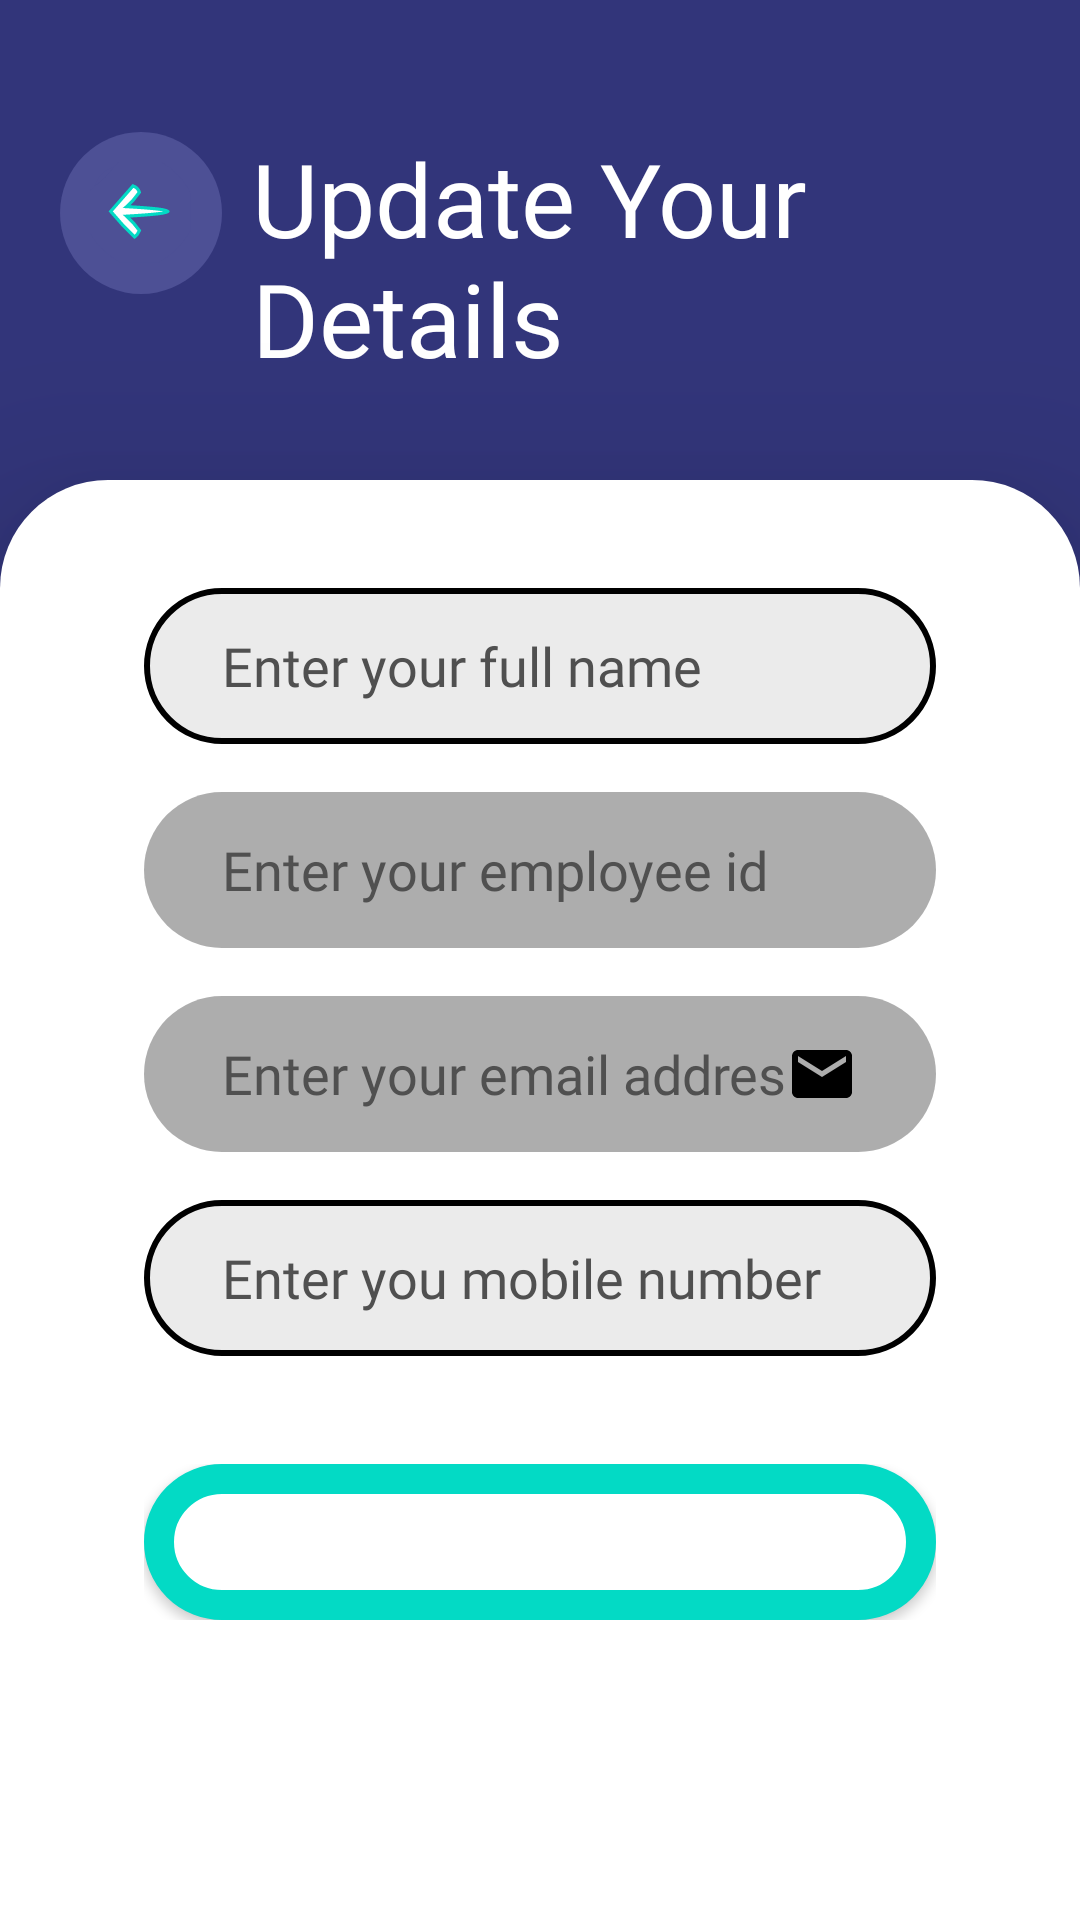

Icons on this 1080px×1920px Android screen, each with its box as {"left": x1, "top": y1, "right": x2, "bottom": y2}:
back: {"left": 60, "top": 132, "right": 222, "bottom": 294}
